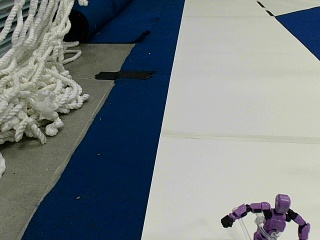pedestrian: (218, 193, 306, 237)
